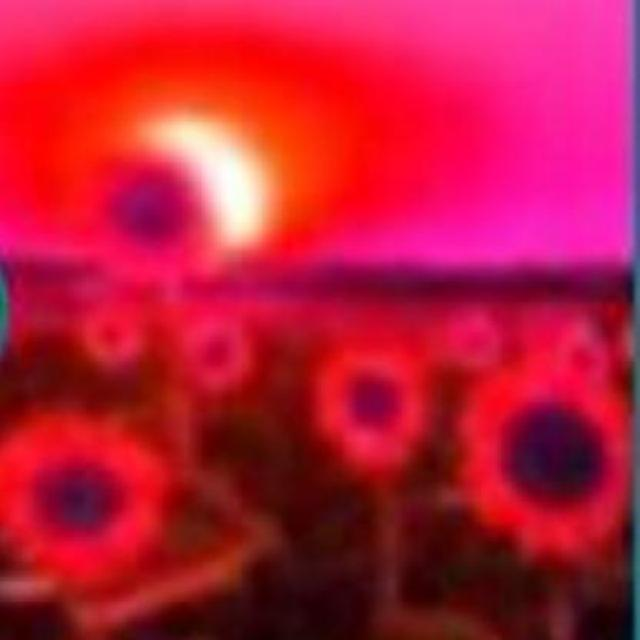sunflower: (0, 402, 171, 590), (462, 368, 623, 544)
